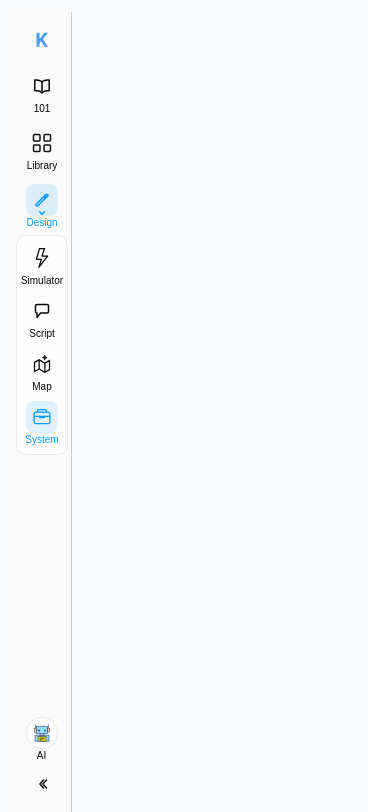
Test case: Assistant rail › restores the owning GDS conversation before sending a map revision request
Step 1. Click the button with test id "agent-launcher" → [42, 740], box 12,711 -> 72,768
(page scrolled)
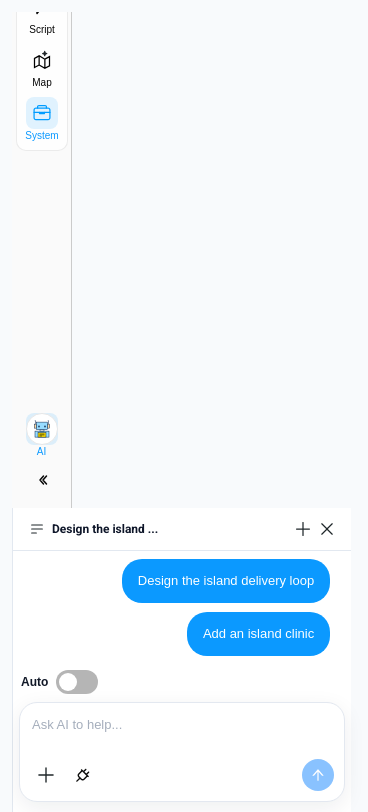
Expected: the text "Design the island delivery loop" is shown, 138,571 -> 314,591
